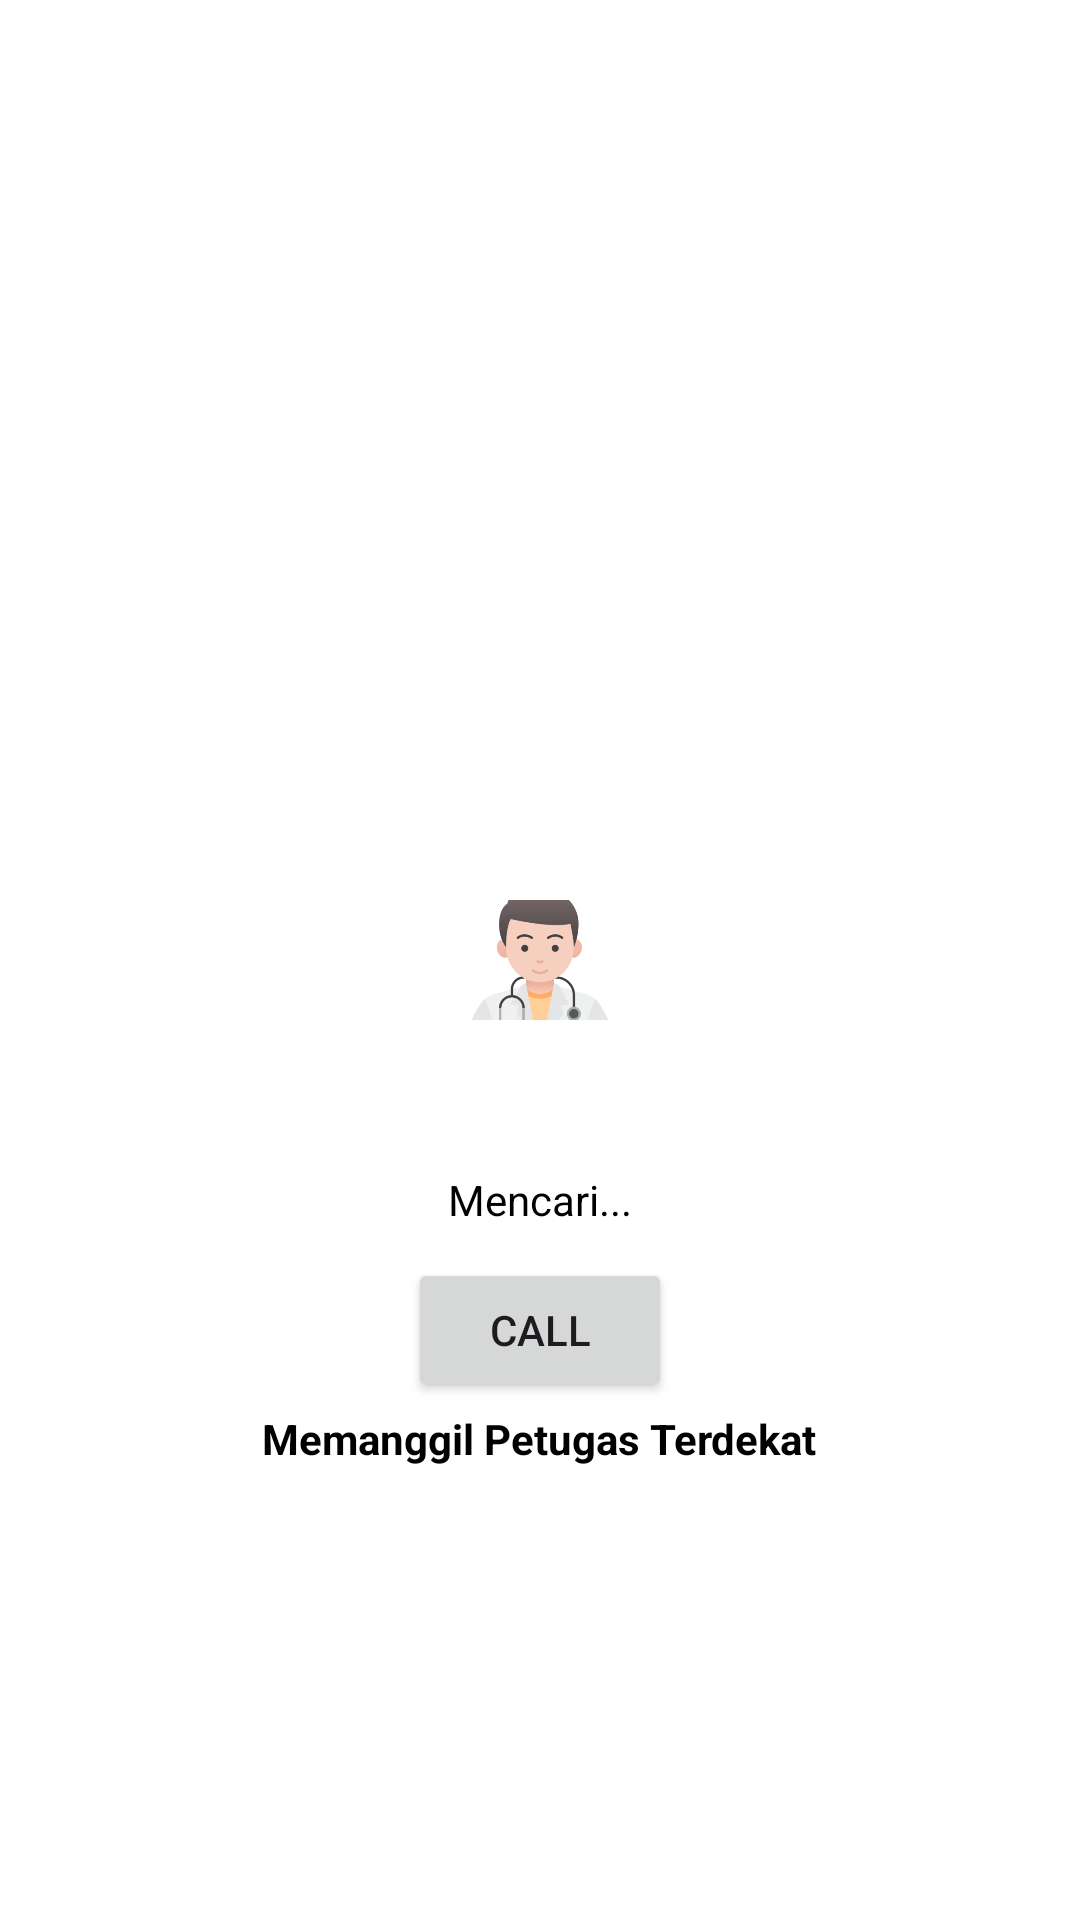

Point at icon controls on the screen. Image size 1080px x 1920px, points as (x,y).
doctor: (540,960)
